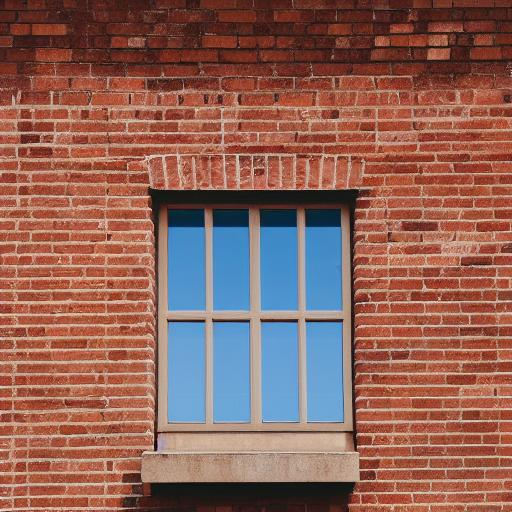Window: (138, 154, 364, 486)
